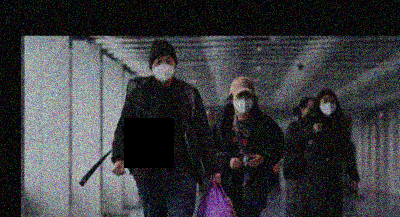with_mask: (150, 54, 175, 82), (232, 91, 252, 114), (318, 95, 336, 115)
